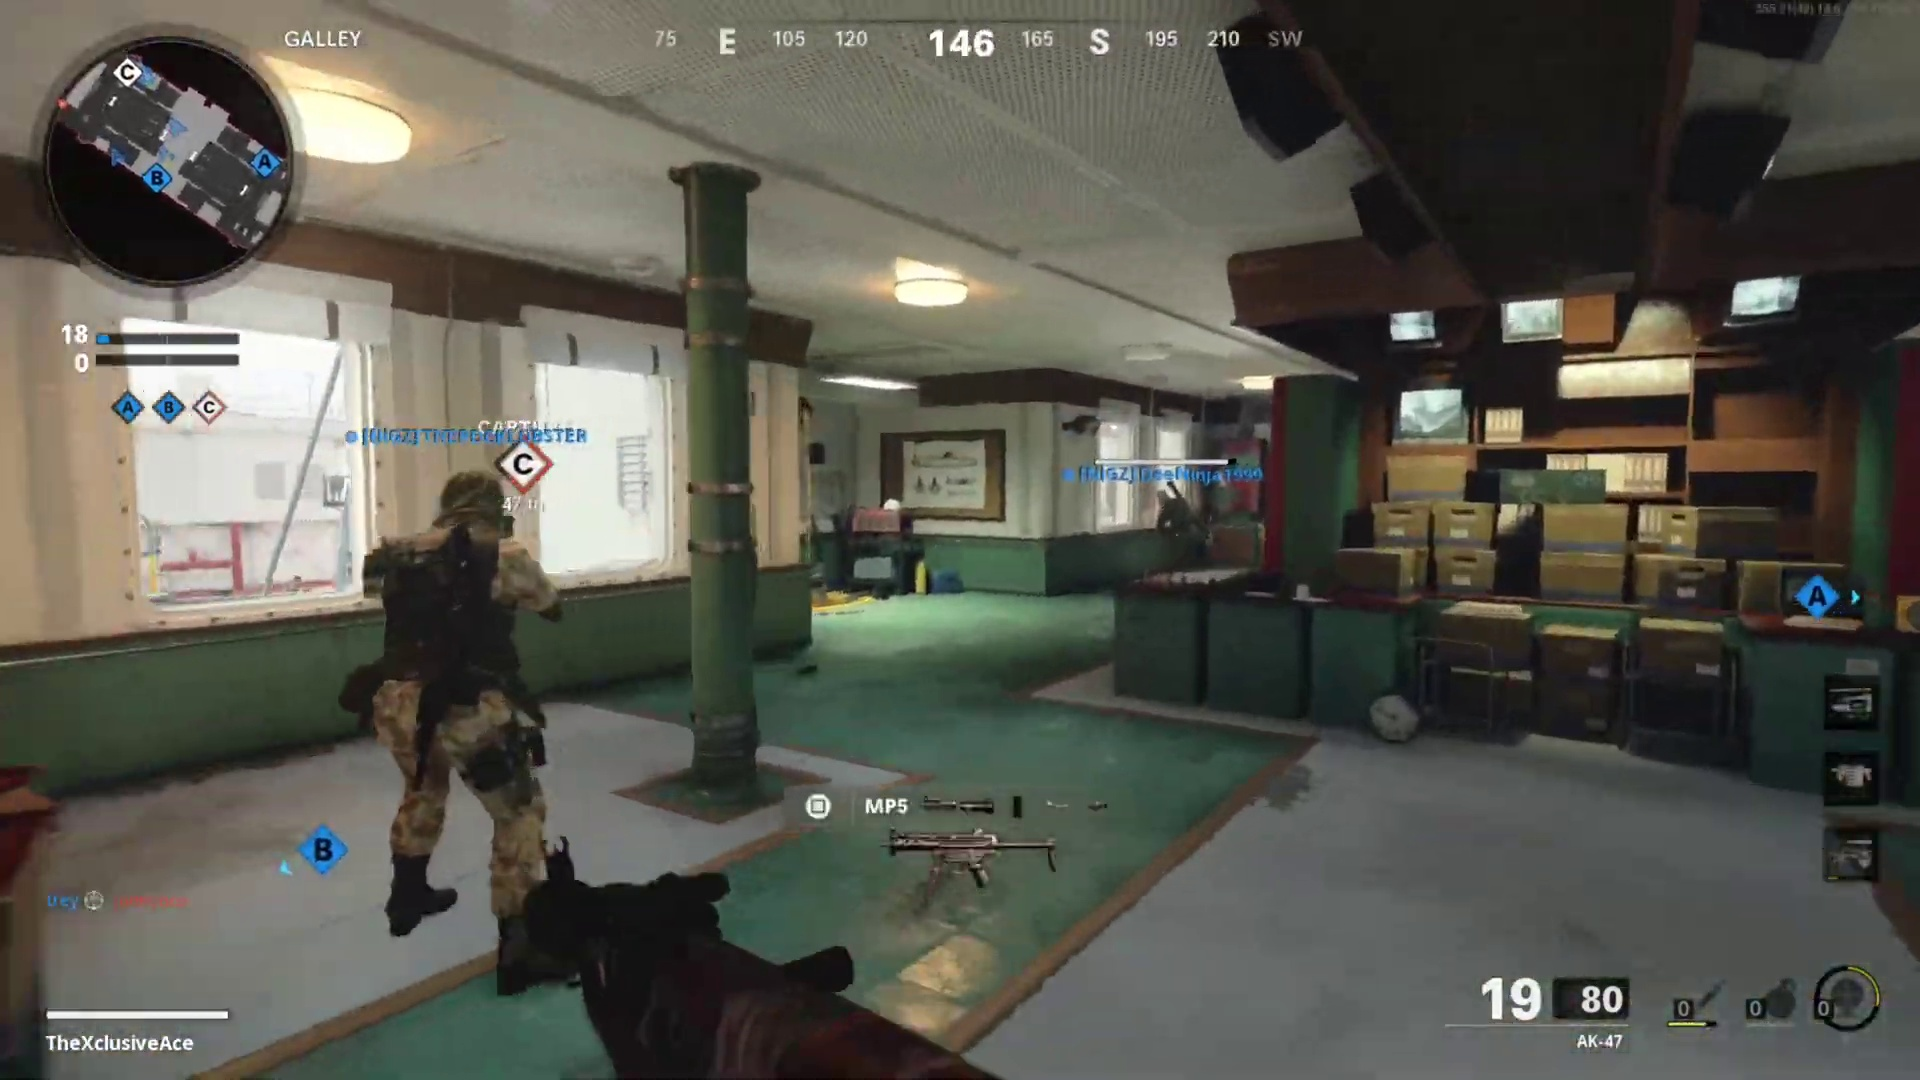head: (435, 474, 498, 534)
person: (347, 468, 568, 931), (1158, 482, 1206, 572)
